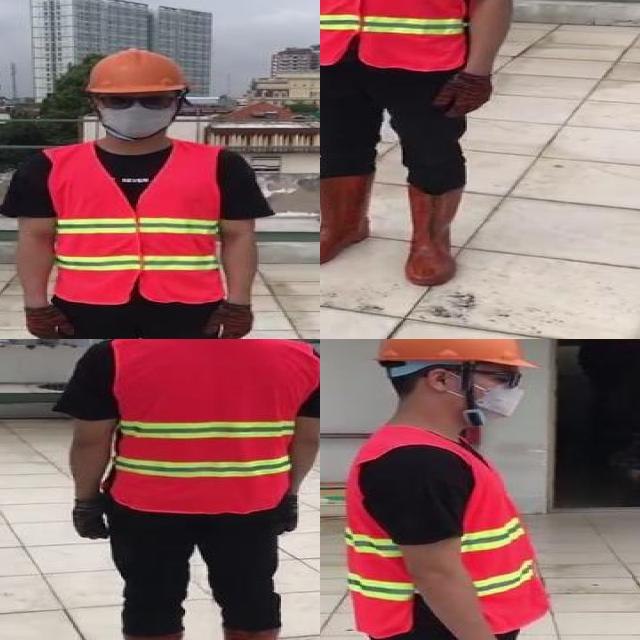boots: (405, 185, 463, 286), (320, 175, 369, 268)
face_mask: (456, 361, 540, 423), (92, 88, 180, 140)
glasses: (90, 89, 182, 116)
hand_glove: (433, 75, 492, 118), (20, 304, 74, 339), (203, 302, 253, 339), (70, 493, 108, 540), (274, 496, 299, 535)
head_helmet: (86, 44, 190, 96), (369, 339, 531, 369)
person: (0, 46, 269, 339), (63, 339, 320, 640), (322, 339, 569, 640), (320, 0, 547, 292)
vest: (344, 428, 547, 637), (110, 339, 307, 513), (35, 141, 229, 302), (320, 0, 468, 69)
